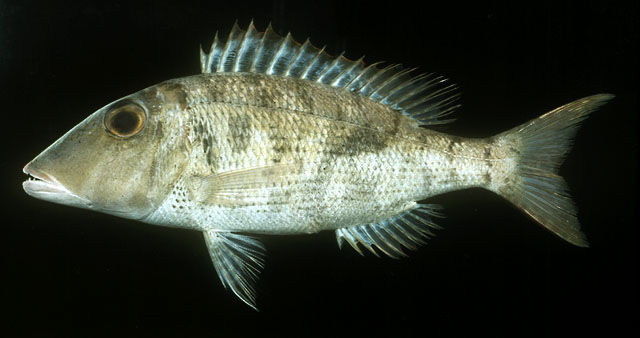fish: (22, 20, 617, 311)
